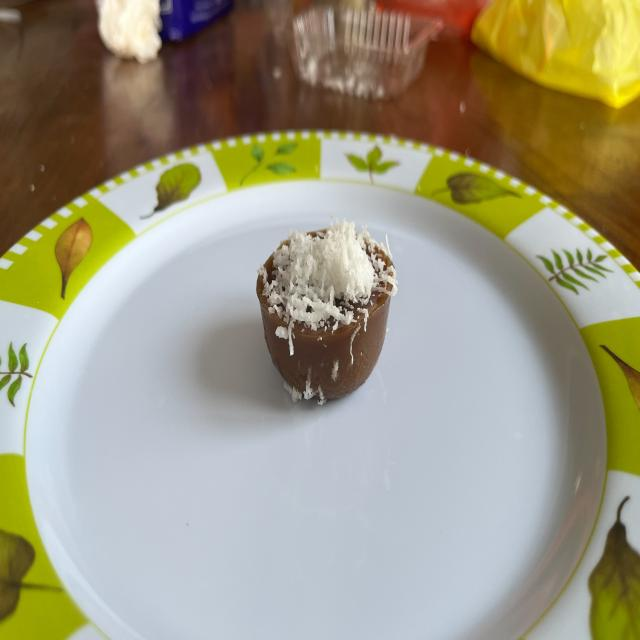Kuih lompang: (256, 218, 398, 404)
